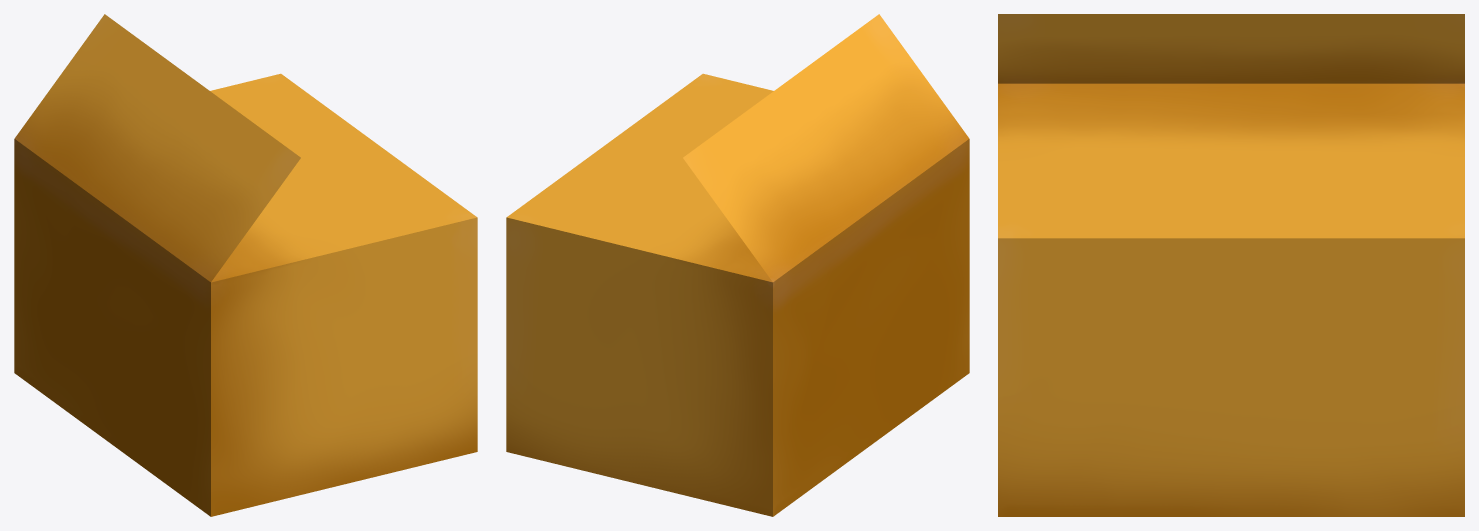
3 views of the same model, side by side, from view 1: azimuth 30°, elevation 25°; view 2: azimuth 150°, elevation 25°; view 3: azimuth 270°, elevation 25° (orthographic). The views are drawn at different scales.
Visible parts, largest first — view 1: Box_002; view 2: Box_002; view 3: Box_002.
Boxes of the visible parts, bbox=[...] form: Box_002: bbox=[14, 14, 477, 516]; Box_002: bbox=[506, 14, 969, 516]; Box_002: bbox=[998, 14, 1464, 516].
Size of the model in its own units: 43.53 by 52.61 by 55.57.
1 material, 1 textured.
